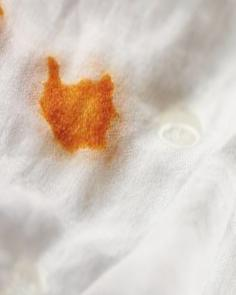stain: (32, 49, 125, 164)
